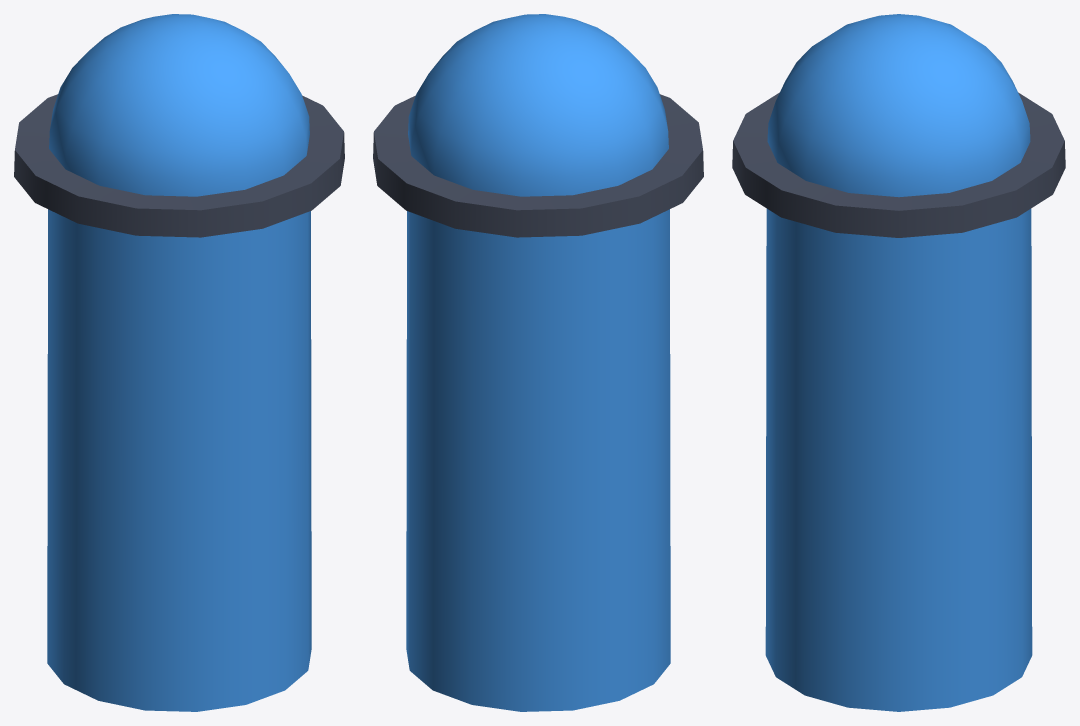
File: Pipet.fbx
The picture shows the model from 3 angles, left to right: view 1: azimuth 30°, elevation 25°; view 2: azimuth 150°, elevation 25°; view 3: azimuth 270°, elevation 25°; orthographic projection.
Parts seen in each view (by area): view 1: Sphere.002; view 2: Sphere.002; view 3: Sphere.002.
Part boxes in pixels (box(x1,y1,x2,y2)): Sphere.002: box(14, 14, 344, 711); Sphere.002: box(373, 14, 703, 711); Sphere.002: box(732, 14, 1065, 711).
Size of the model in its own units: 25.44 by 52.97 by 25.44.
